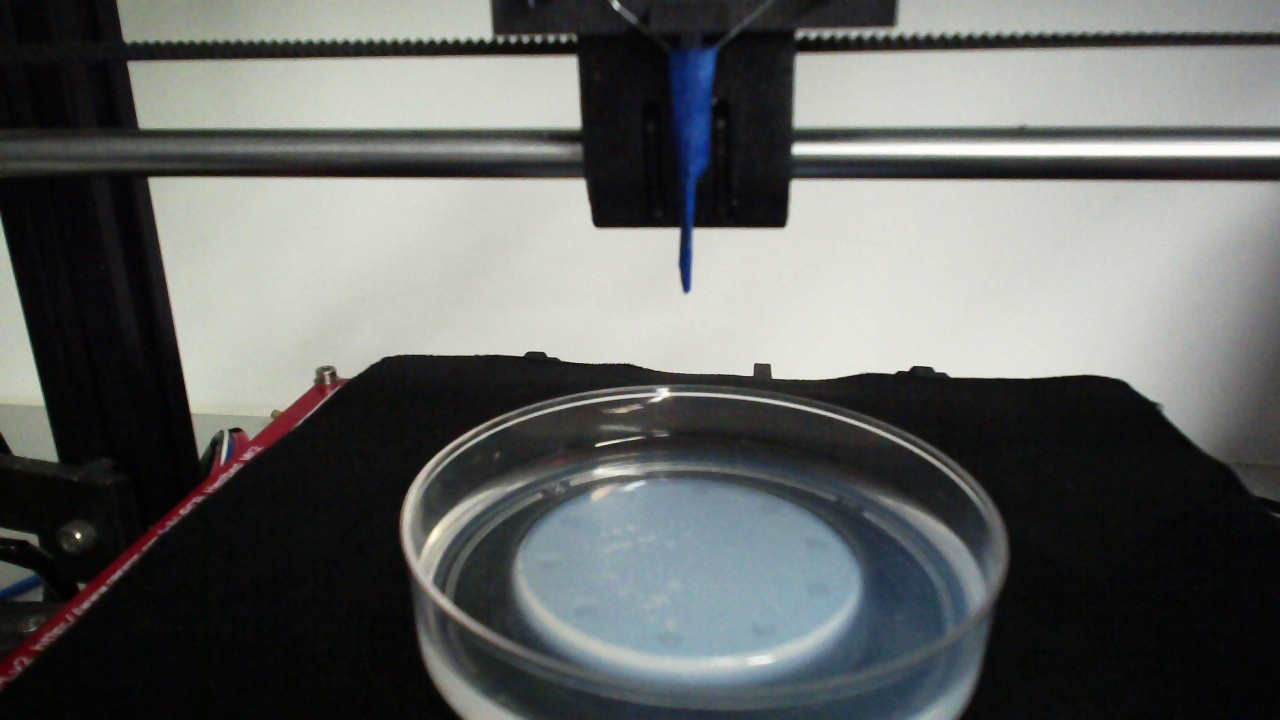groove: (536, 555, 566, 577), (556, 510, 585, 531), (805, 580, 835, 600), (568, 602, 597, 622), (751, 620, 781, 639), (655, 630, 685, 649), (684, 482, 715, 500), (803, 533, 832, 552), (754, 498, 783, 517)
needle: (678, 48, 715, 292)
